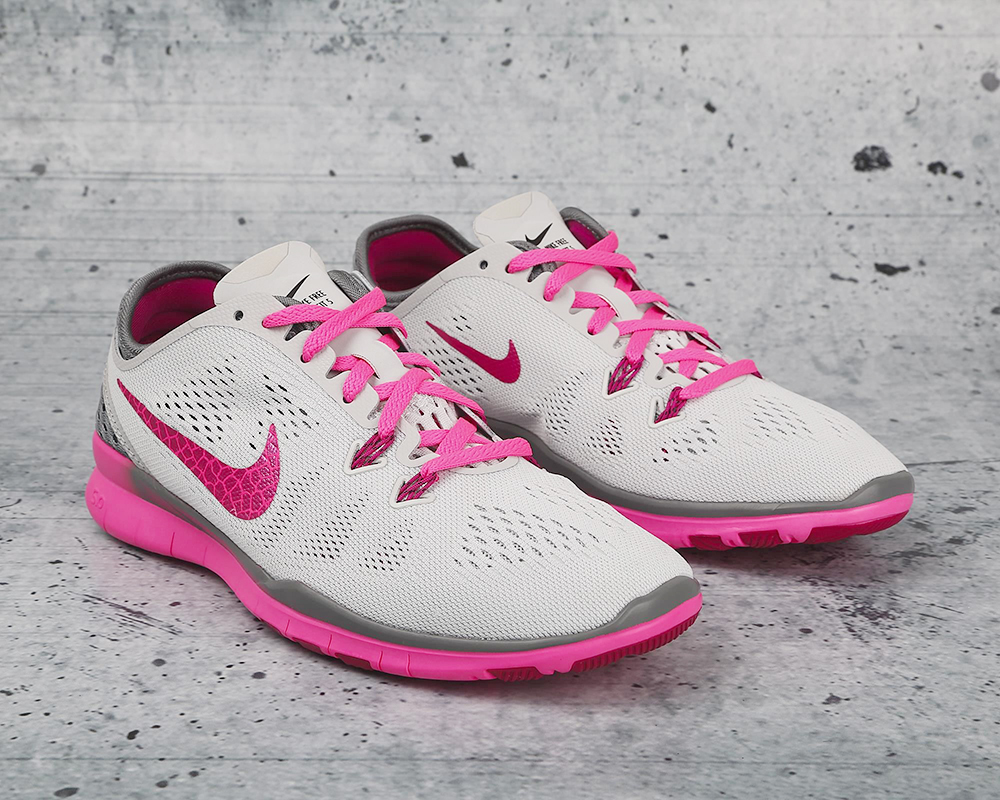Nike: (106, 371, 292, 525), (419, 314, 526, 390), (276, 271, 323, 305), (516, 218, 553, 255)
